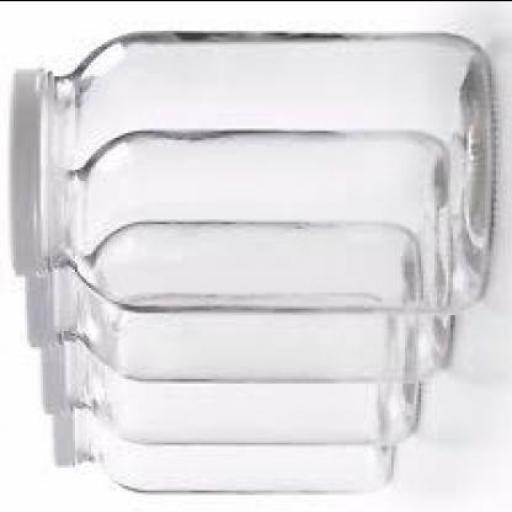glass: (41, 27, 489, 310), (50, 127, 451, 376), (55, 220, 414, 442), (72, 294, 392, 489)
metal: (7, 68, 50, 273), (20, 260, 55, 341), (36, 336, 71, 412), (48, 403, 80, 460)
